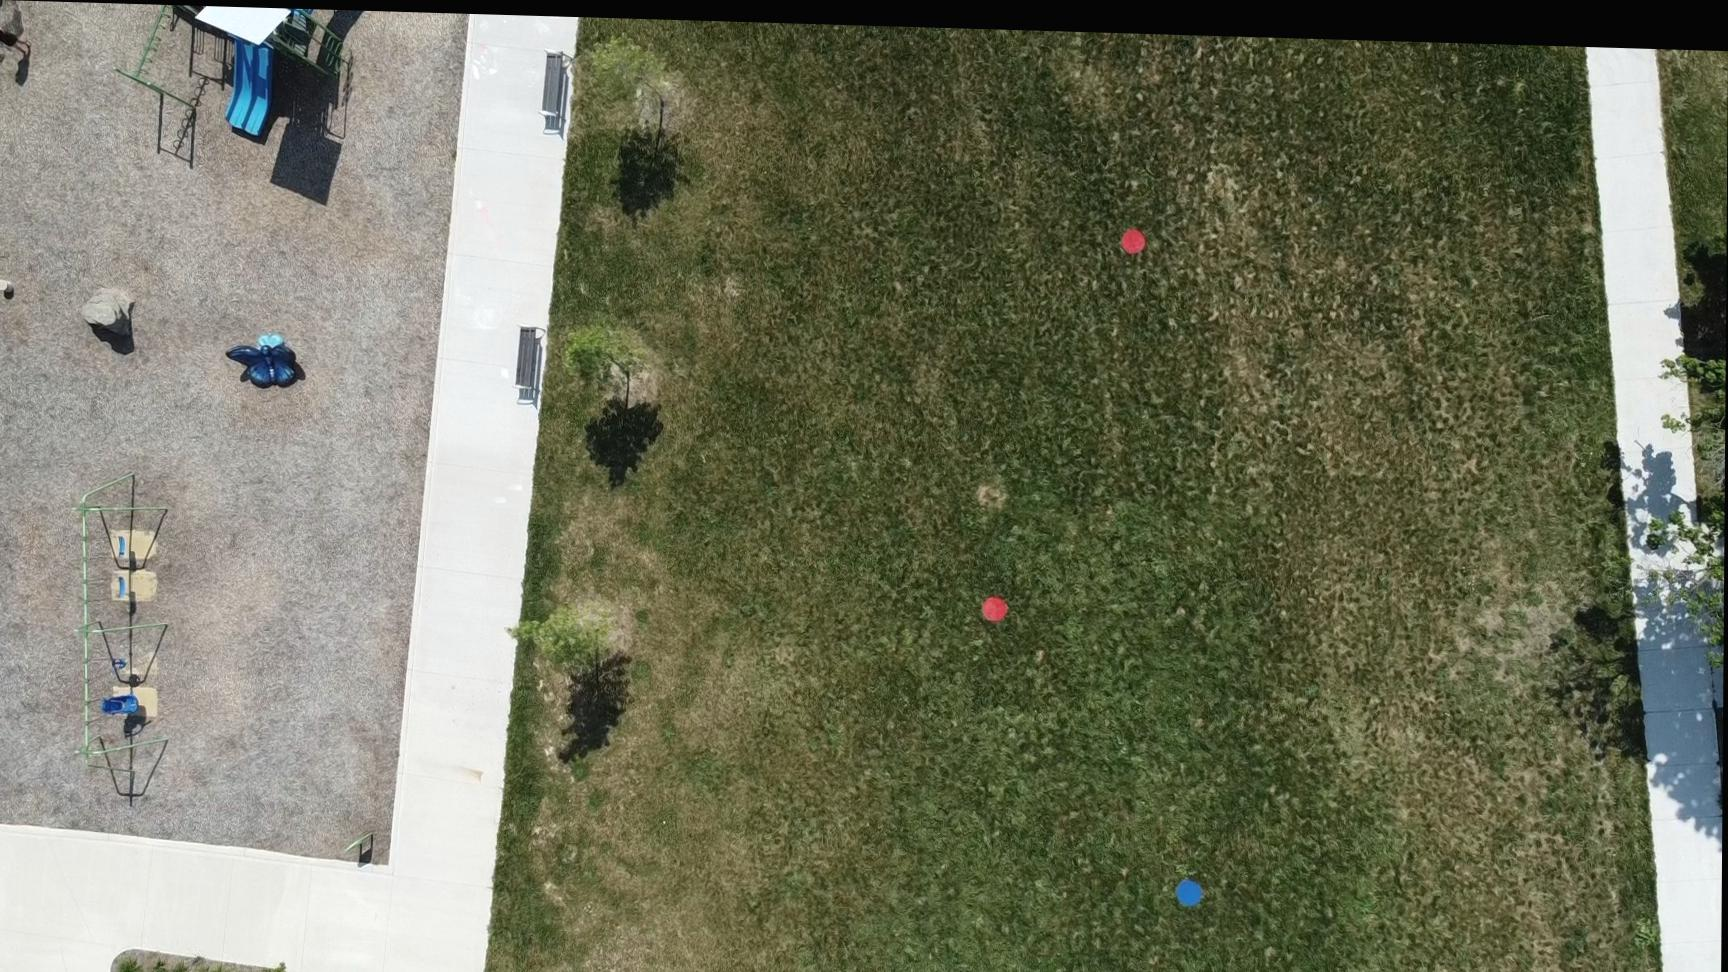Blue: (1176, 871, 1205, 900)
Red: (981, 589, 1010, 616), (1120, 221, 1146, 248)
